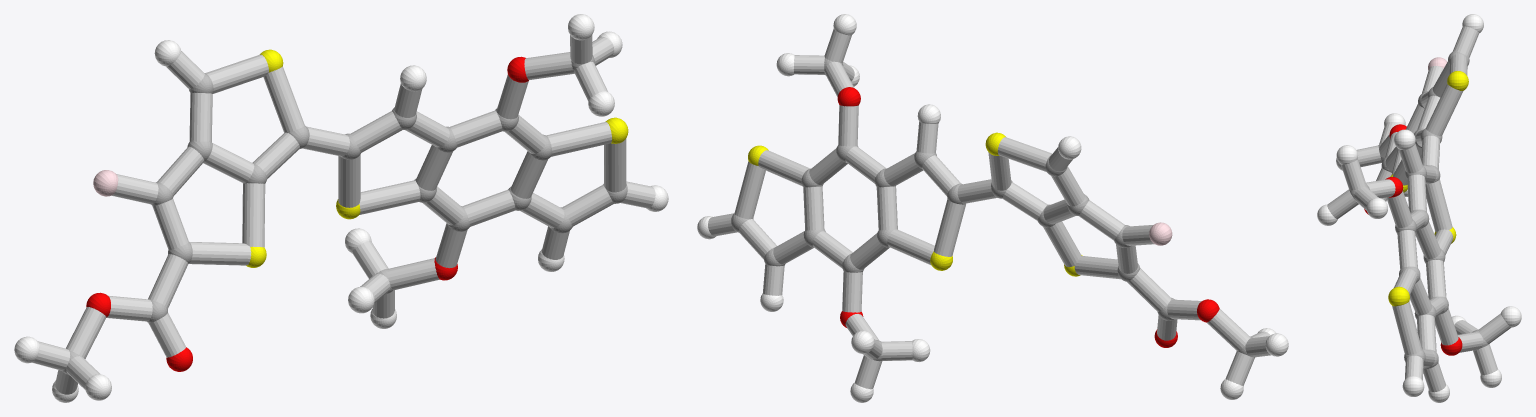
Rendered from Dimethoxy_Benzodithiophene_Phi_10_Theta_40_Methylcarbonyl_3_Fluoro_Thienothiophene.glb.
3 views of the same model, side by side, from view 1: azimuth 30°, elevation 25°; view 2: azimuth 150°, elevation 25°; view 3: azimuth 270°, elevation 25° (orthographic). The views are drawn at different scales.
Visible parts, largest first — view 1: grp15205, grp8689, grp1, grp13395, grp7241; view 2: grp15205, grp8689, grp1, grp13395, grp7241; view 3: grp15205, grp8689, grp1, grp7241, grp13395.
Part boxes in pixels (left/top/right/bottom): grp15205: left=32, top=35, right=655, bottom=394; grp8689: left=14, top=14, right=668, bottom=402; grp1: left=62, top=55, right=627, bottom=374; grp13395: left=86, top=56, right=528, bottom=371; grp7241: left=246, top=49, right=628, bottom=267; grp15205: left=708, top=29, right=1270, bottom=389; grp8689: left=697, top=14, right=1288, bottom=402; grp1: left=731, top=58, right=1254, bottom=361; grp13395: left=837, top=87, right=1219, bottom=347; grp7241: left=748, top=132, right=1082, bottom=276; grp15205: left=1327, top=26, right=1510, bottom=392; grp8689: left=1317, top=14, right=1521, bottom=402; grp1: left=1349, top=51, right=1488, bottom=368; grp7241: left=1388, top=71, right=1468, bottom=306; grp13395: left=1364, top=124, right=1462, bottom=355.
Size of the model in its own units: 17.12 by 8.68 by 5.67.
